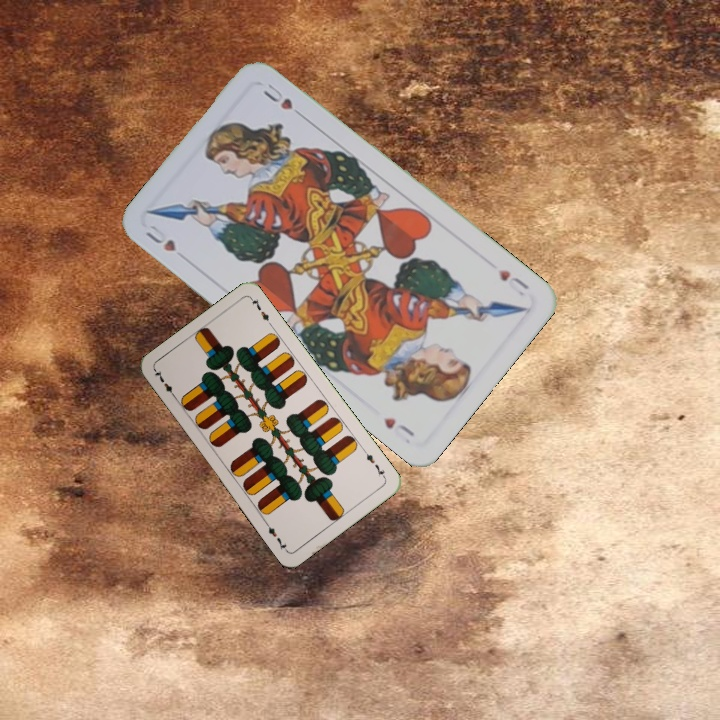E7: (150, 366, 179, 401), (360, 446, 388, 481)
HU: (141, 220, 179, 255), (494, 265, 532, 299)
